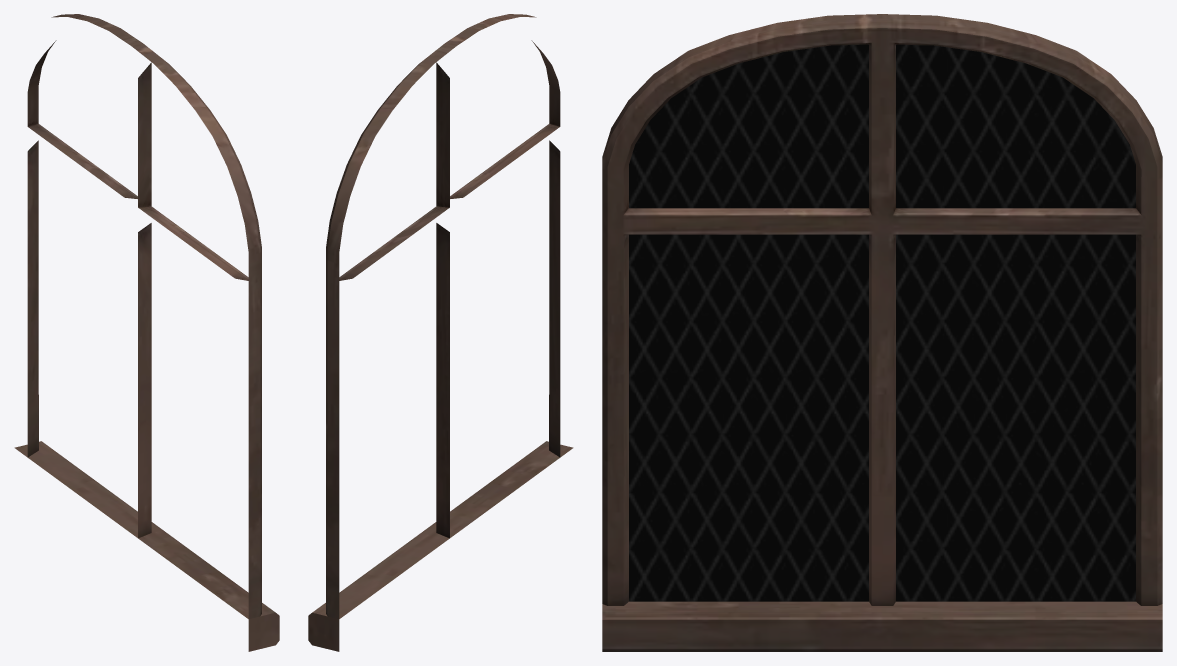
3 views of the same model, side by side, from view 1: azimuth 30°, elevation 25°; view 2: azimuth 150°, elevation 25°; view 3: azimuth 270°, elevation 25° (orthographic). The views are drawn at different scales.
Visible parts, largest first — view 1: body0_model0_lod0_mesh1; view 2: body0_model0_lod0_mesh1; view 3: body0_model0_lod0_mesh0, body0_model0_lod0_mesh1.
Part boxes in pixels (x1=…): body0_model0_lod0_mesh1: x1=14, y1=14, x2=279, y2=651; body0_model0_lod0_mesh1: x1=308, y1=14, x2=573, y2=651; body0_model0_lod0_mesh0: x1=629, y1=44, x2=1135, y2=601; body0_model0_lod0_mesh1: x1=602, y1=14, x2=1162, y2=651.
Bounding box in the file's own units: 8.01 × 127 × 104.
Materials: 2 (2 with a texture image).
